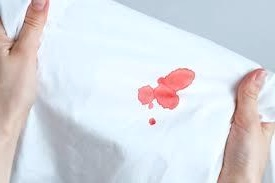blood: (137, 68, 195, 110), (148, 118, 156, 126)
